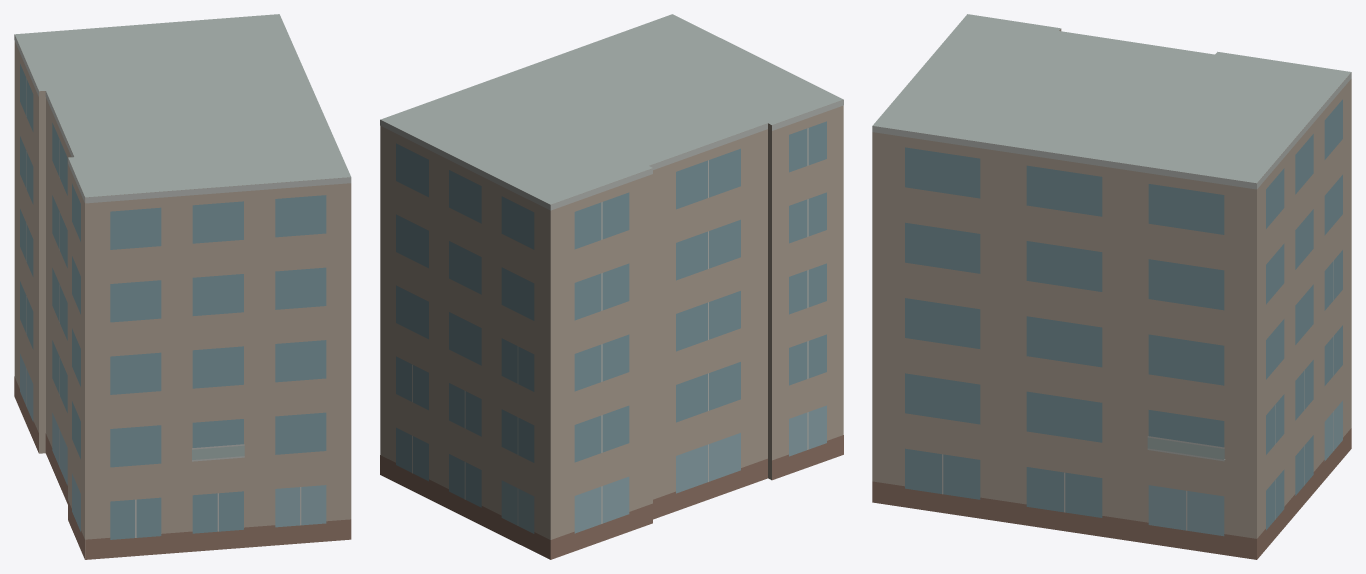
Rendered from survey-upis-33010001.glb.
The picture shows the model from 3 angles, left to right: view 1: azimuth 30°, elevation 25°; view 2: azimuth 150°, elevation 25°; view 3: azimuth 270°, elevation 25°; orthographic projection. The views are drawn at different scales.
Parts seen in each view (by area): view 1: survey-upis-33010001.tmp; view 2: survey-upis-33010001.tmp; view 3: survey-upis-33010001.tmp.
Part boxes in pixels (x1,y1,x2,y2): survey-upis-33010001.tmp: (14, 14, 351, 559); survey-upis-33010001.tmp: (380, 14, 843, 559); survey-upis-33010001.tmp: (872, 14, 1351, 559).
Size of the model in its own units: 14.13 by 14.65 by 16.9.
